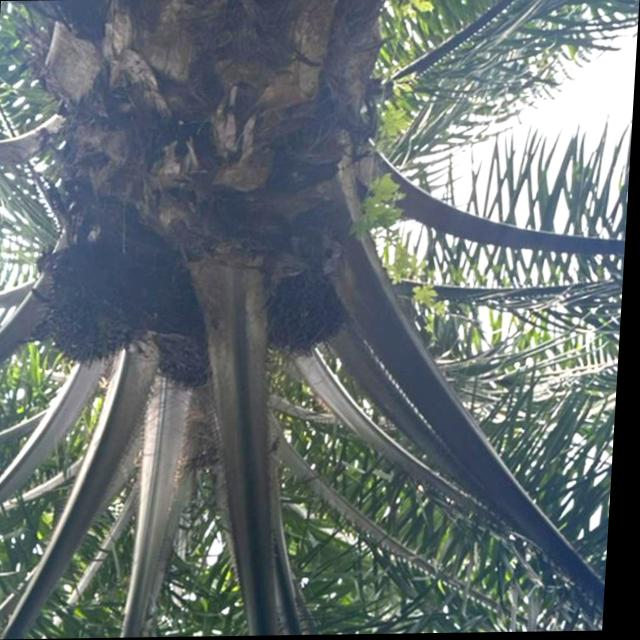almost: (269, 279, 359, 360)
